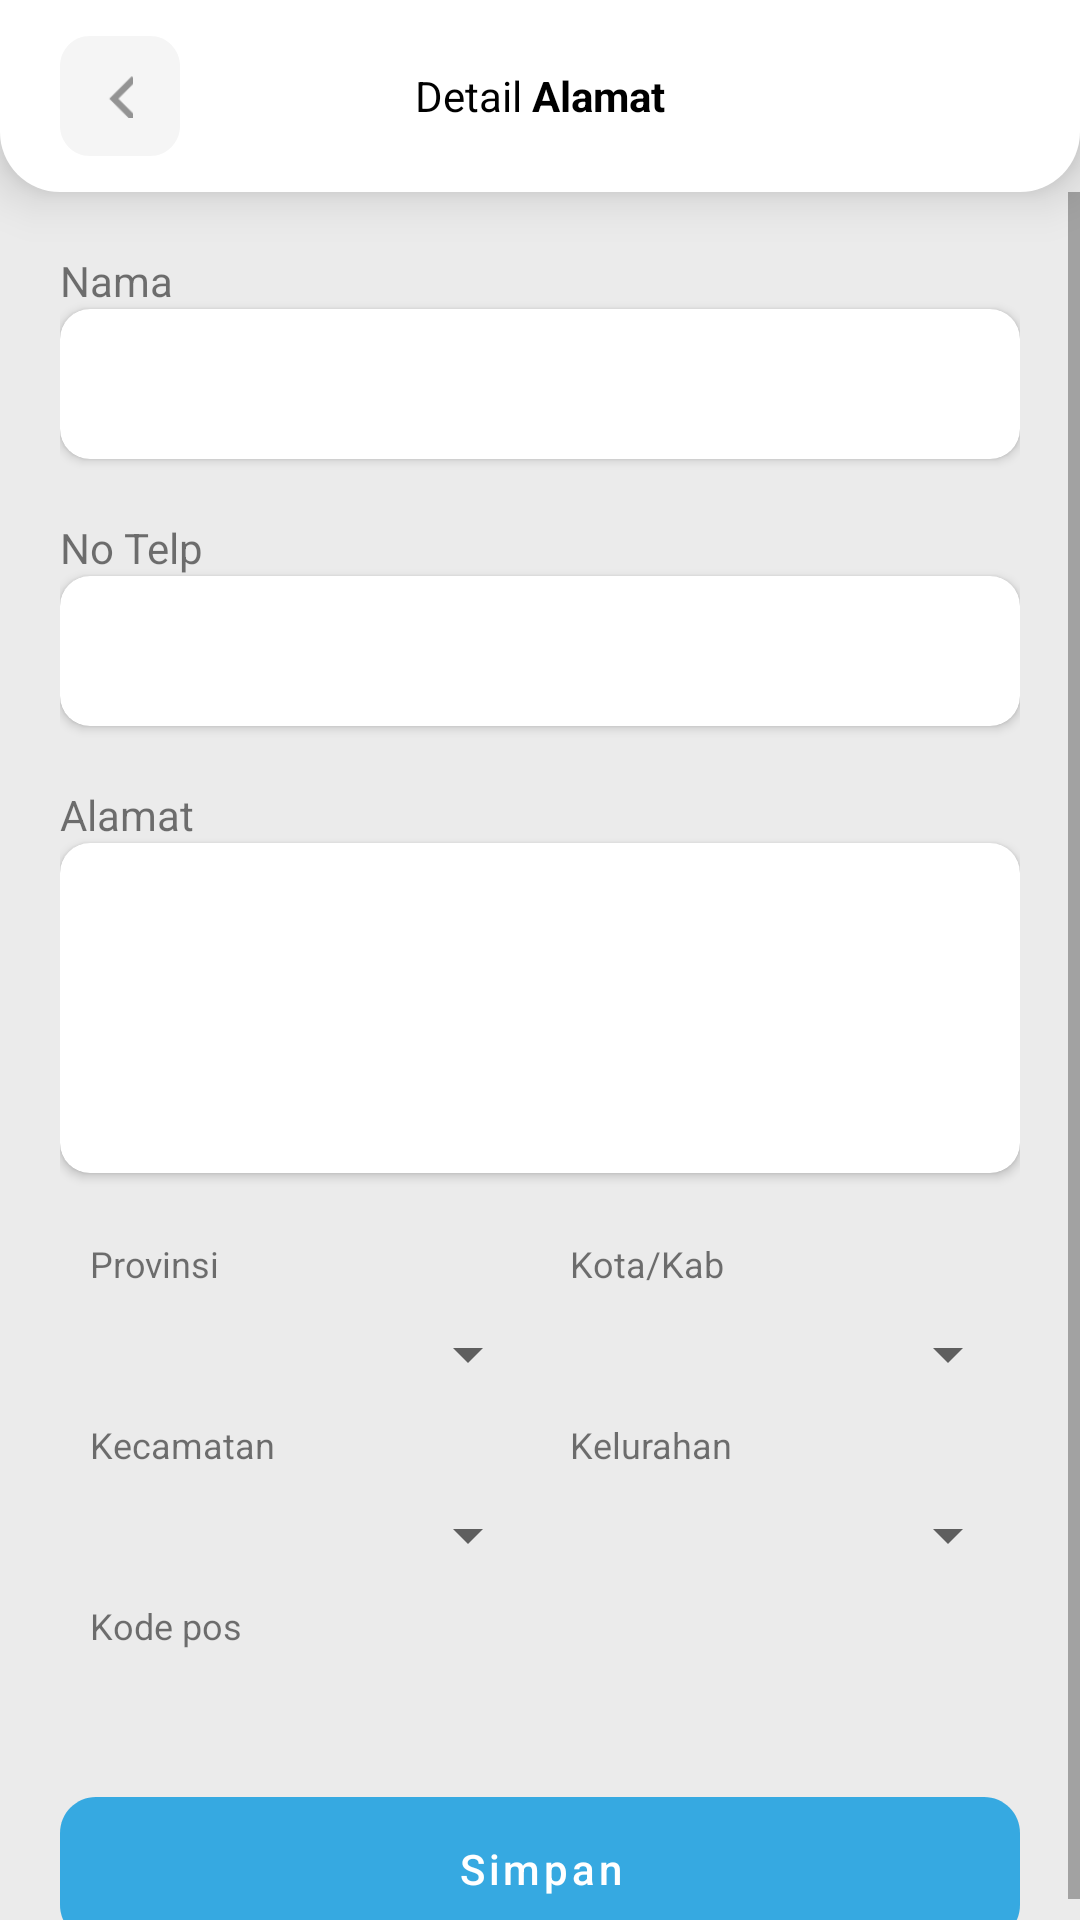

Screen size 1080×1920. Icon name, then its center in pixels as (x,y):
back: (121,97)
